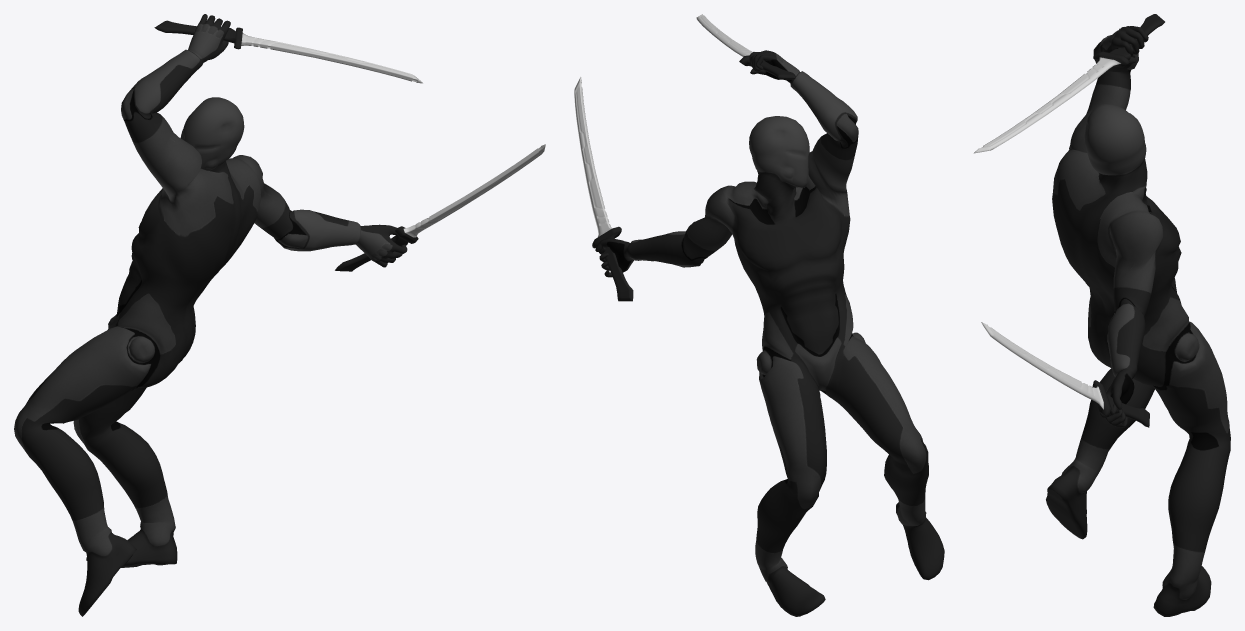
3 views of the same model, side by side, from view 1: azimuth 30°, elevation 25°; view 2: azimuth 150°, elevation 25°; view 3: azimuth 270°, elevation 25° (orthographic). The views are drawn at different scales.
Visible parts, largest first — view 1: Cyborg_Ninja_Killer, Sword_l, Sword_l001; view 2: Cyborg_Ninja_Killer, Sword_l001, Sword_l; view 3: Cyborg_Ninja_Killer, Sword_l, Sword_l001.
Part boxes in pixels (x1=…): Cyborg_Ninja_Killer: x1=14, y1=14, x2=407, y2=616; Sword_l: x1=154, y1=20, x2=422, y2=83; Sword_l001: x1=335, y1=144, x2=545, y2=271; Cyborg_Ninja_Killer: x1=595, y1=50, x2=944, y2=616; Sword_l001: x1=574, y1=76, x2=633, y2=301; Sword_l: x1=696, y1=14, x2=795, y2=79; Cyborg_Ninja_Killer: x1=1046, y1=26, x2=1230, y2=616; Sword_l: x1=973, y1=14, x2=1164, y2=153; Sword_l001: x1=981, y1=322, x2=1149, y2=427.
Size of the model in its own units: 168 by 201 by 77.2.
2 materials, 2 textured.
